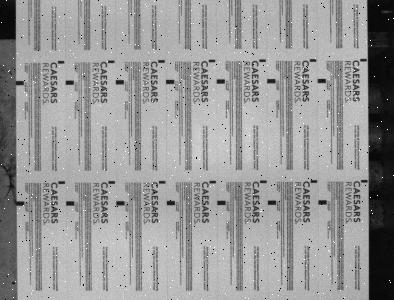qblock: (65, 81, 74, 86), (267, 79, 276, 84), (166, 80, 175, 85), (66, 201, 75, 206), (116, 201, 125, 206), (268, 200, 277, 205), (318, 79, 326, 84), (16, 81, 24, 86), (319, 200, 327, 205), (217, 201, 226, 205), (116, 81, 124, 85), (217, 80, 225, 84), (167, 201, 175, 205), (16, 202, 24, 206)
smallqblock: (209, 59, 216, 63), (159, 180, 166, 184), (210, 180, 217, 184), (260, 59, 266, 63), (58, 61, 65, 64), (58, 181, 65, 184), (260, 180, 267, 183), (361, 59, 368, 62), (108, 61, 115, 64), (310, 59, 317, 62), (159, 60, 165, 63), (109, 181, 115, 184), (311, 180, 317, 183), (362, 180, 368, 183)
